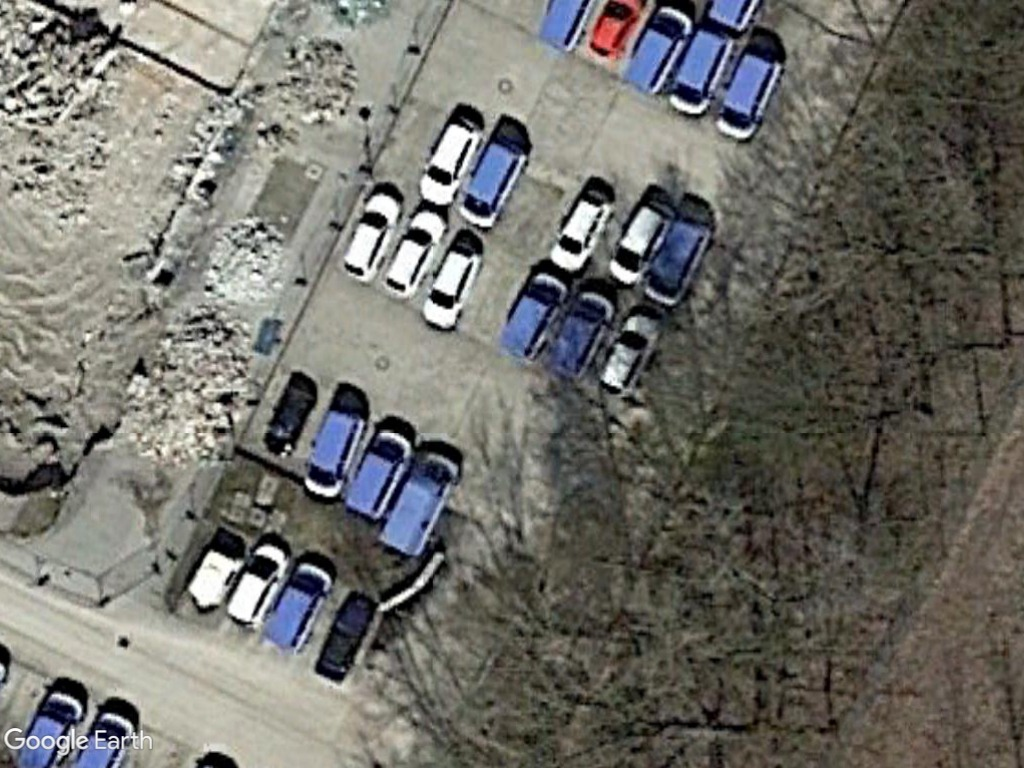car: (379, 206, 447, 302), (338, 188, 404, 284), (547, 185, 615, 274), (607, 200, 677, 284), (420, 234, 478, 328), (599, 305, 657, 394)
van: (375, 449, 463, 561), (341, 426, 418, 524), (295, 404, 370, 504), (261, 558, 335, 656), (455, 137, 532, 230), (622, 5, 696, 100), (415, 113, 489, 208), (715, 46, 785, 145), (642, 214, 714, 310), (497, 263, 563, 365), (665, 26, 737, 119), (543, 285, 615, 378), (224, 540, 288, 630)
